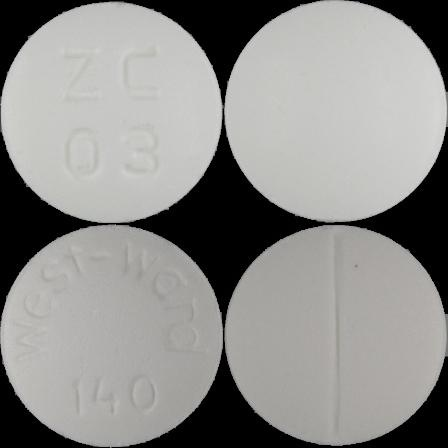21695-885: (0, 0, 224, 224)
